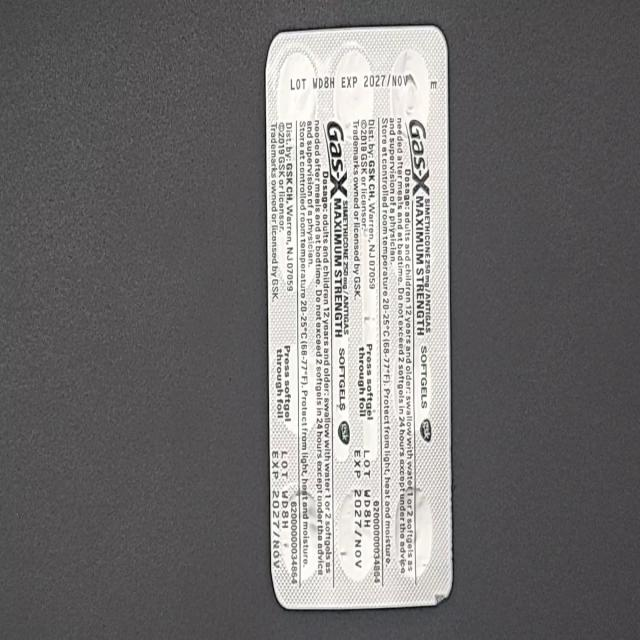no defect: (11, 16, 39, 64)
